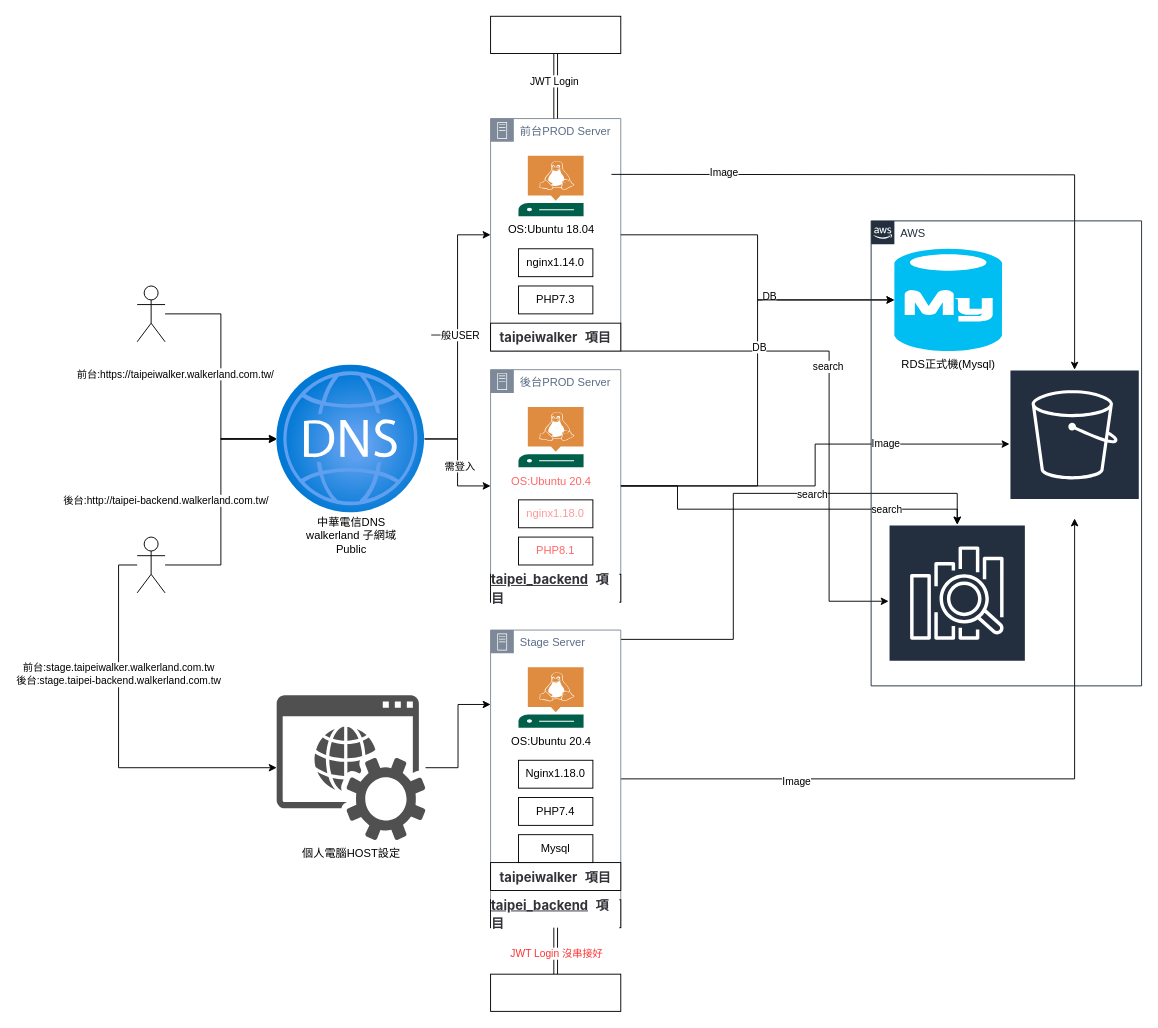
The diagram is 1158 pixels wide and 1028 high, and some of its shapes have lost their labels. Each missing label, with the centre of its shape:
"Amazon S3" goes at (1074,443).
"Stage WalkerLand" goes at (555,992).
"User" goes at (150,313).
"WalkerLand" goes at (555,34).
"內部人員" goes at (150,564).
"正式機elasticsearch" goes at (957,601).
